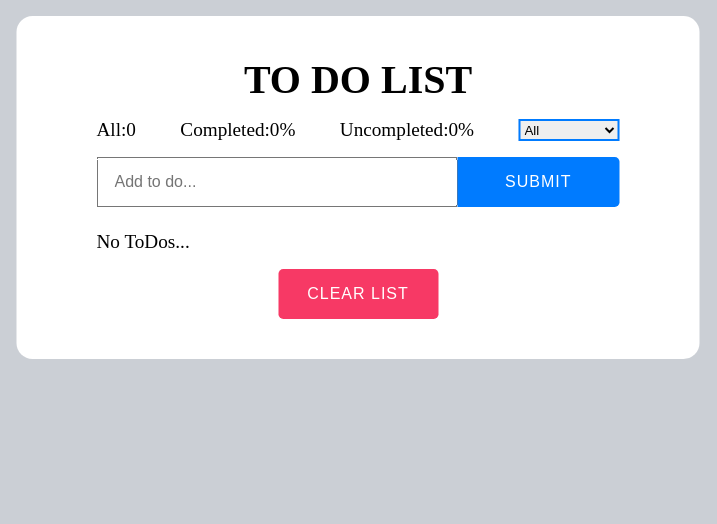
Scenario: to-do list › filter completed to-dos
Type "to-do item 1" into the field with placeholder "Add to do..." at coordinates (277, 182), box x1=96 y1=157 x2=457 y2=207
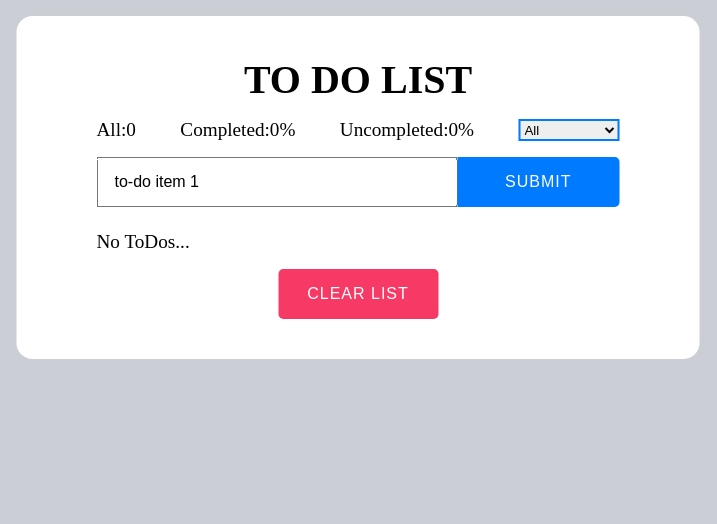
Click the button "submit" at coordinates (538, 182), box x1=457 y1=157 x2=620 y2=207
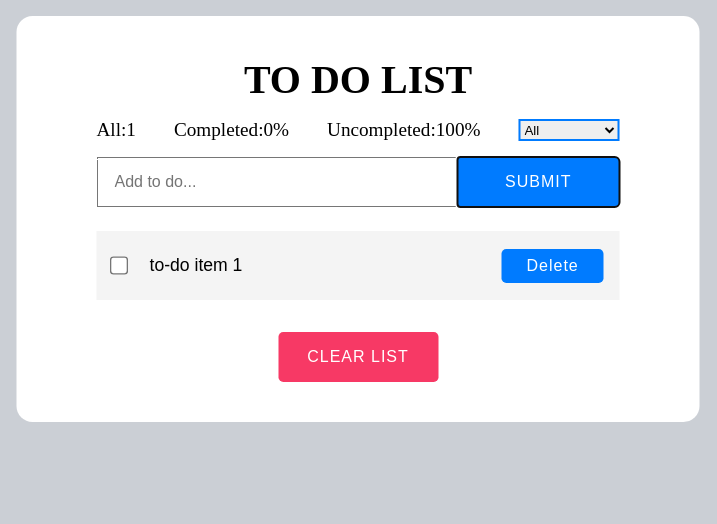
Type "to-do item 2" into the field with placeholder "Add to do..." at coordinates (277, 182), box x1=96 y1=157 x2=457 y2=207
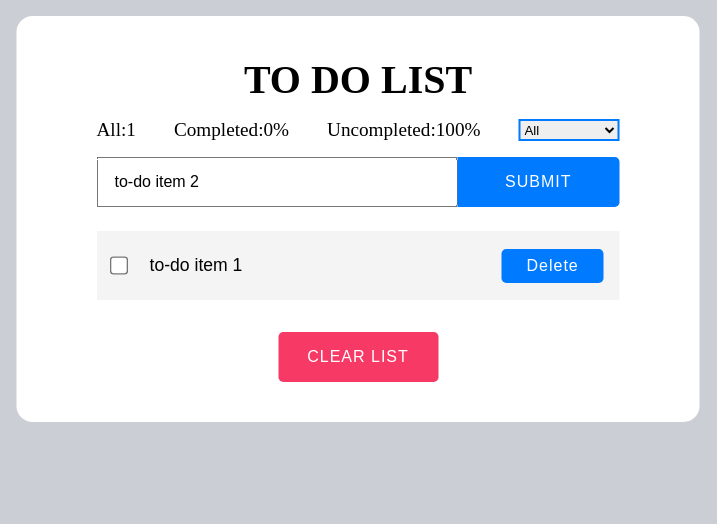
Click the button "submit" at coordinates (538, 182), box x1=457 y1=157 x2=620 y2=207
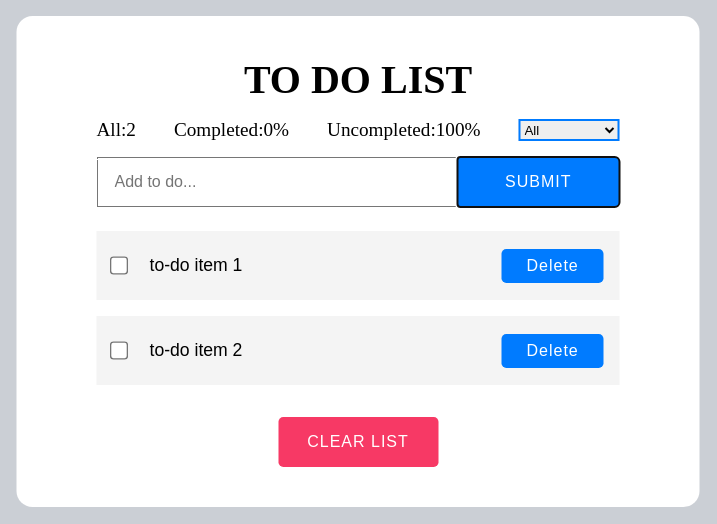
Click the 1st checkbox at coordinates (119, 266), box x1=110 y1=256 x2=128 y2=275
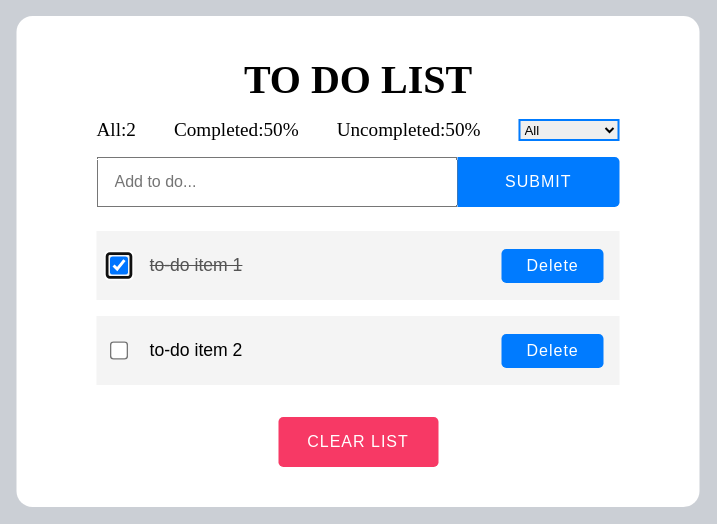
Select "completed" in the dropdown at coordinates (569, 130), box x1=518 y1=119 x2=620 y2=141
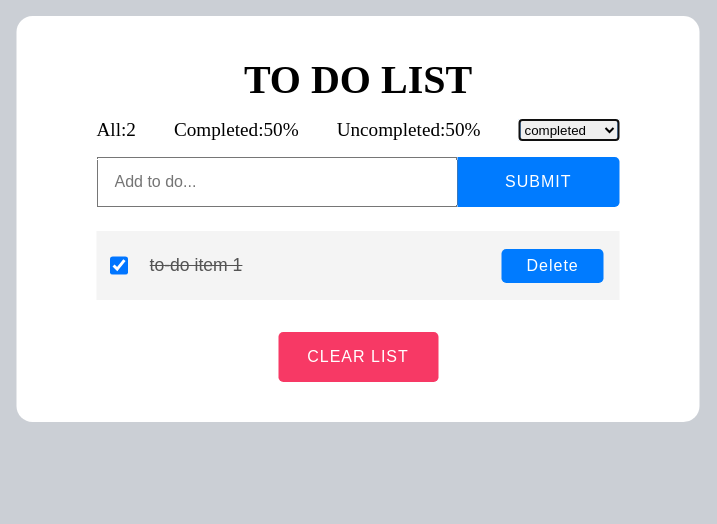
Expected: the checkbox is checked, x1=110 y1=256 x2=128 y2=275
Expected: the field showing "to-do item 1" is disabled, x1=134 y1=247 x2=502 y2=284
Expected: the number of list items is 1, x1=96 y1=231 x2=620 y2=300
